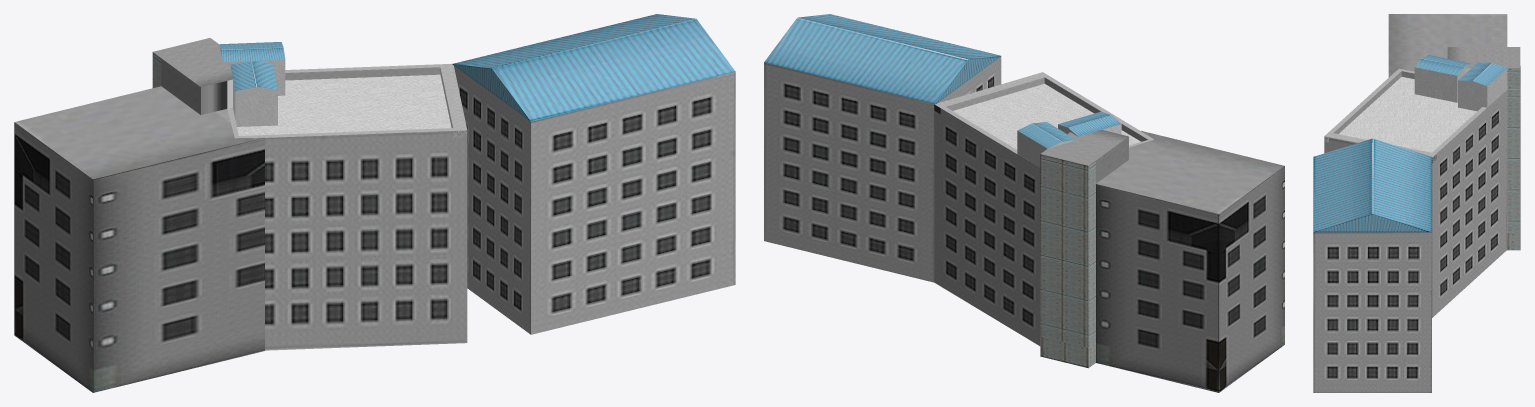
Rendered from edificioinformatica.fbx.
3 renders of one model, left to right at view 1: azimuth 30°, elevation 25°; view 2: azimuth 150°, elevation 25°; view 3: azimuth 270°, elevation 25°, orthographic. The views are drawn at different scales.
Parts seen in each view (by area): view 1: Cube, Cube.004, Cube.001, Cube.003, Cube.002; view 2: Cube.004, Cube, Cube.001, Cube.002, Cube.003; view 3: Cube, Cube.001, Cube.004, Cube.003, Cube.002.
Part boxes in pixels (x1=…): Cube: x1=452, y1=14, x2=735, y2=334; Cube.004: x1=14, y1=38, x2=265, y2=392; Cube.001: x1=227, y1=63, x2=467, y2=350; Cube.003: x1=230, y1=60, x2=277, y2=126; Cube.002: x1=219, y1=42, x2=285, y2=95; Cube.004: x1=1040, y1=130, x2=1284, y2=392; Cube: x1=764, y1=14, x2=1001, y2=282; Cube.001: x1=934, y1=72, x2=1153, y2=345; Cube.002: x1=1017, y1=122, x2=1076, y2=167; Cube.003: x1=1058, y1=111, x2=1121, y2=136; Cube: x1=1313, y1=138, x2=1431, y2=392; Cube.001: x1=1324, y1=68, x2=1507, y2=317; Cube.004: x1=1388, y1=14, x2=1520, y2=250; Cube.003: x1=1414, y1=55, x2=1470, y2=102; Cube.002: x1=1458, y1=62, x2=1507, y2=111.
Size of the model in its own units: 1752 by 691 by 703.
